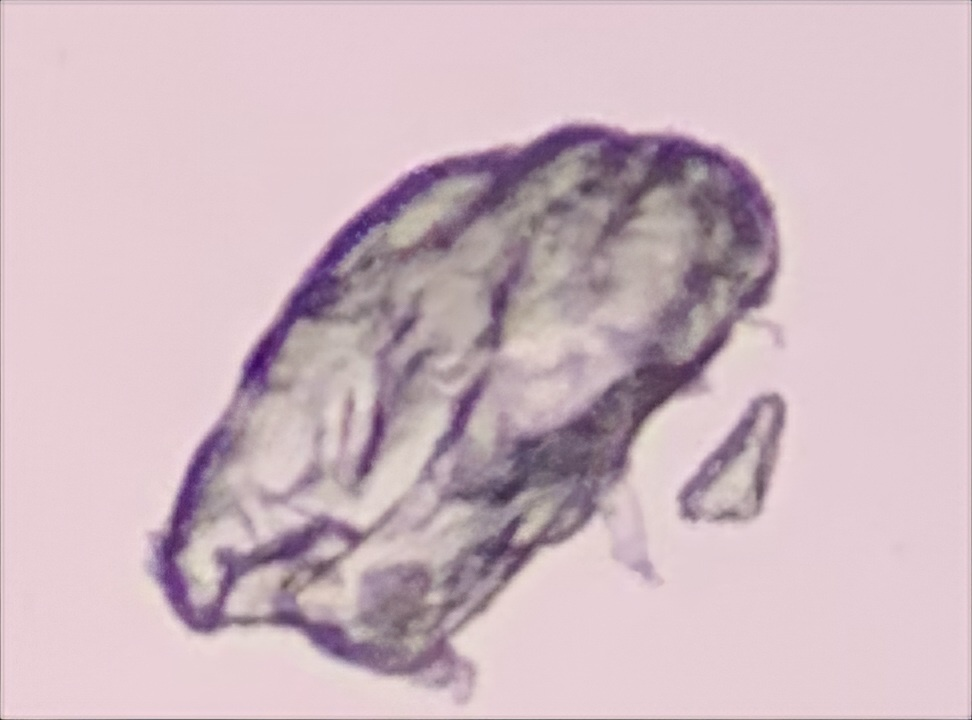microplastic: (149, 122, 780, 705), (679, 396, 787, 522)
